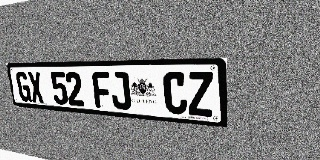2: (65, 72, 84, 106)
5: (50, 72, 69, 105)
C: (163, 72, 188, 115)
F: (92, 72, 113, 109)
G: (15, 72, 32, 102)
J: (109, 72, 131, 110)
X: (27, 72, 45, 103)
Z: (187, 72, 214, 117)
